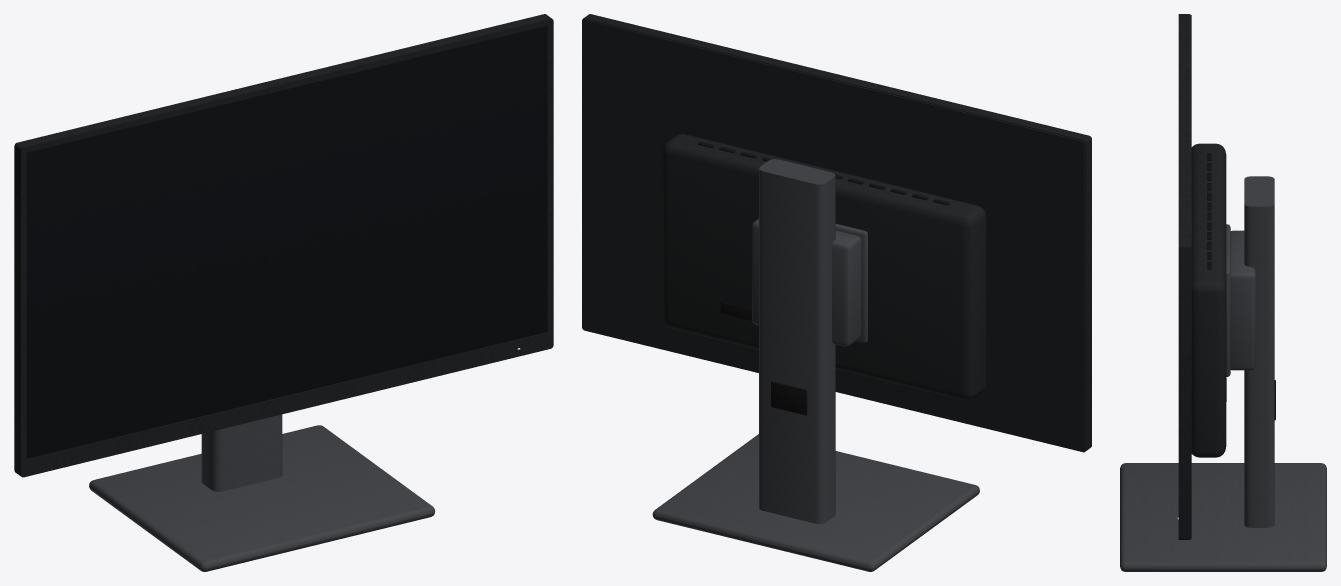
The model's file is desktop-monitor.webp.glb.
The picture shows the model from 3 angles, left to right: view 1: azimuth 30°, elevation 25°; view 2: azimuth 150°, elevation 25°; view 3: azimuth 270°, elevation 25°; orthographic projection. The views are drawn at different scales.
Visible parts, largest first — view 1: Screen, Stand, Bezel frame; view 2: Rear housing, Stand, Bezel frame, Vents and ports, Cable opening; view 3: Stand, Rear housing, Bezel frame, Vents and ports.
Boxes of the visible parts, <box> form: Screen: <box>26,26,547,458</box>; Stand: <box>89,414,435,571</box>; Bezel frame: <box>14,14,553,477</box>; Rear housing: <box>582,19,1084,451</box>; Stand: <box>652,159,979,571</box>; Bezel frame: <box>582,14,1091,452</box>; Vents and ports: <box>697,141,949,320</box>; Cable opening: <box>771,381,807,415</box>; Stand: <box>1120,176,1326,571</box>; Rear housing: <box>1190,15,1226,538</box>; Bezel frame: <box>1178,14,1190,539</box>; Vents and ports: <box>1207,153,1226,401</box>.
Size of the model in its own units: 0.6117 by 0.4822 by 0.23.
Materials: 6 (6 with a texture image).
